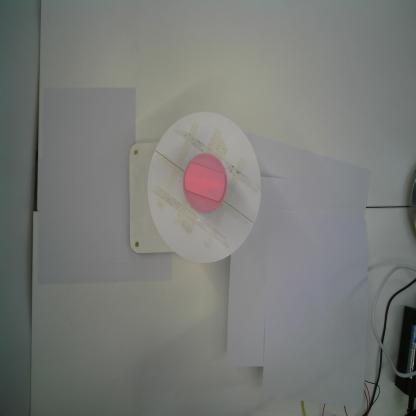Canned Food: (183, 152, 228, 214)
